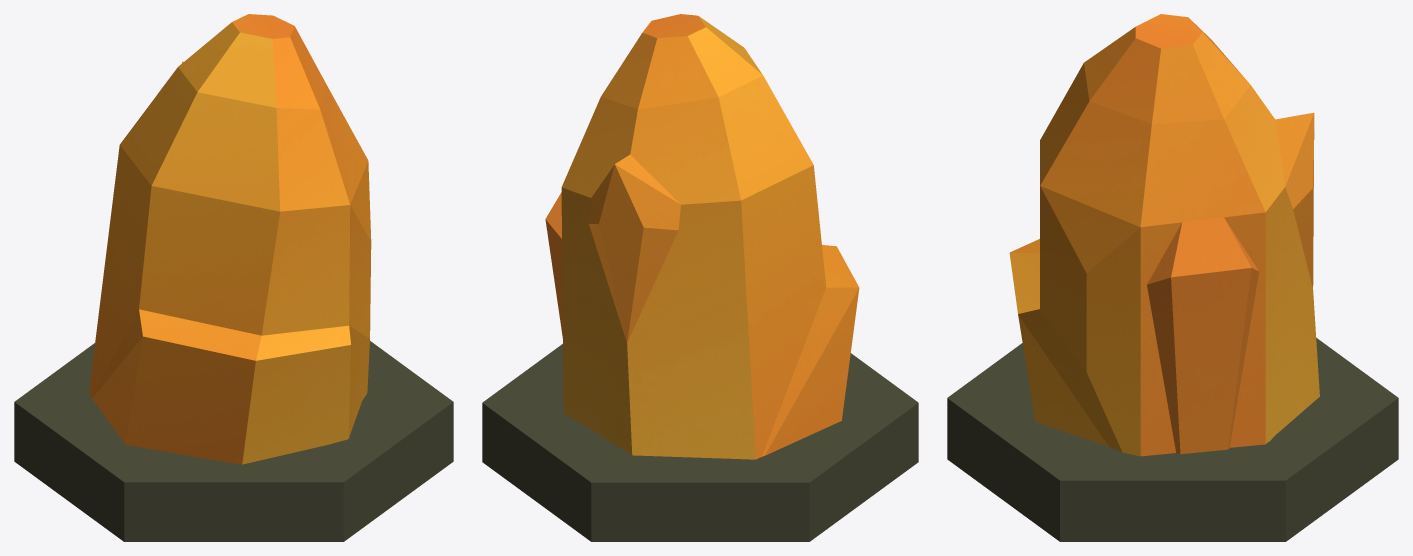
The model's file is GroundBlock(4).fbx.
3 views of the same model, side by side, from view 1: azimuth 30°, elevation 25°; view 2: azimuth 150°, elevation 25°; view 3: azimuth 270°, elevation 25° (orthographic). The views are drawn at different scales.
Visible parts, largest first — view 1: Block2.2; view 2: Block2.2; view 3: Block2.2.
Boxes of the visible parts, x1,y1,x2,y2 form: Block2.2: [14, 14, 453, 541]; Block2.2: [482, 14, 918, 541]; Block2.2: [947, 14, 1398, 541].
Bounding box in the file's own units: 173 × 218 × 200.
